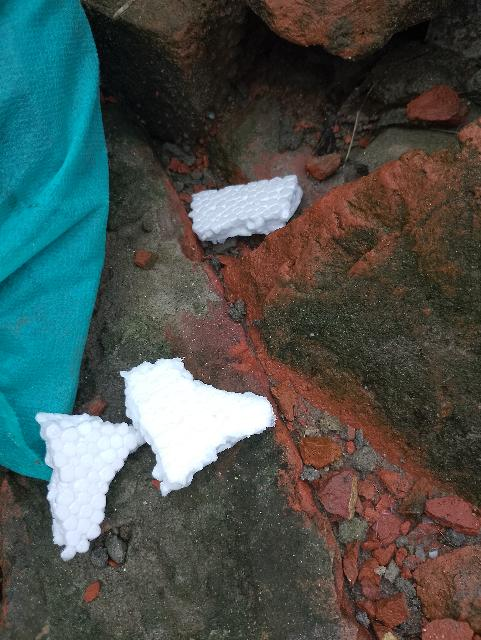cocksheet: (108, 311, 284, 494), (41, 420, 132, 549), (190, 165, 310, 253)
